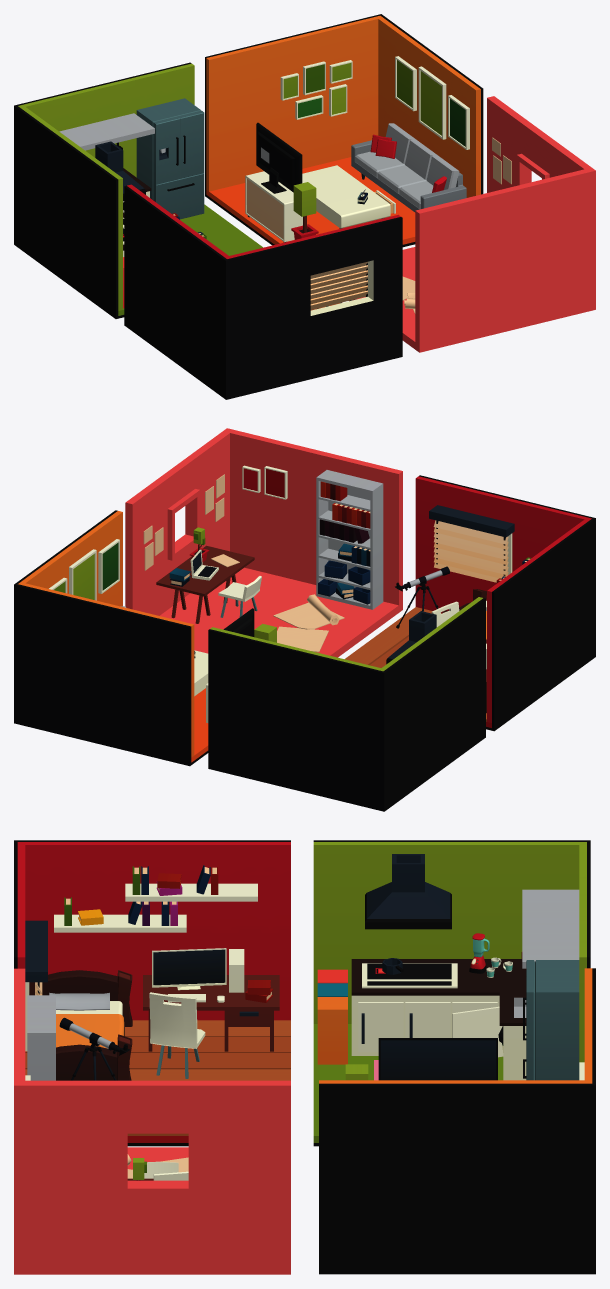
File: hause2.fbx
3 renders of one model, top to bottom at view 1: azimuth 30°, elevation 25°; view 2: azimuth 150°, elevation 25°; view 3: azimuth 270°, elevation 25°, orthographic. The views are drawn at different scales.
Parts seen in each view (by area): view 1: Walls2, Walls2_Colors_0_2, Walls, Walls_Colors_0_2, Fridge, Table_Body, Dresser, TV, Top_Shelf, Picture8, Frame_Back, Picture7 (+12 smaller); view 2: Walls_Colors_0_2, Walls2_Colors_0_2, Walls, Walls2, BookShelf, Top_Colors_0_3, Wood_Plank7, Top_Colors_0_2, Picture8, Paper8, Picture6, Paper7 (+7 smaller); view 3: Walls, Walls2_Colors_0_2, Walls2, Walls_Colors_0_2, Bed, Counter_Colors_0, Fridge, TV, Thing_above_the_stove_i_dont_really_know_wat_its_called_Colo, Top_Shelf, Computer, Wood_Plank4 (+18 smaller).
Boxes of the visible parts, left/top/right/bottom form: Walls2: left=124, top=184, right=402, bottom=399; Walls2_Colors_0_2: left=349, top=96, right=595, bottom=352; Walls: left=205, top=14, right=483, bottom=247; Walls_Colors_0_2: left=14, top=62, right=262, bottom=318; Fridge: left=136, top=98, right=204, bottom=219; Table_Body: left=302, top=165, right=390, bottom=228; Dresser: left=245, top=171, right=302, bottom=242; TV: left=256, top=122, right=302, bottom=193; Top_Shelf: left=59, top=113, right=154, bottom=150; Picture8: left=418, top=66, right=446, bottom=139; Frame_Back: left=351, top=140, right=466, bottom=208; Picture7: left=395, top=56, right=416, bottom=111; Walls_Colors_0_2: left=208, top=597, right=485, bottom=811; Walls2_Colors_0_2: left=125, top=428, right=402, bottom=657; Walls: left=14, top=510, right=208, bottom=766; Walls2: left=415, top=475, right=595, bottom=731; BookShelf: left=316, top=470, right=383, bottom=609; Top_Colors_0_3: left=156, top=545, right=254, bottom=596; Wood_Plank7: left=344, top=607, right=432, bottom=665; Top_Colors_0_2: left=429, top=505, right=514, bottom=537; Picture8: left=69, top=549, right=96, bottom=600; Paper8: left=277, top=626, right=328, bottom=652; Picture6: left=98, top=539, right=119, bottom=593; Paper7: left=273, top=602, right=344, bottom=629; Walls: left=319, top=968, right=595, bottom=1274; Walls2_Colors_0_2: left=14, top=968, right=290, bottom=1274; Walls2: left=14, top=840, right=290, bottom=1146; Walls_Colors_0_2: left=313, top=840, right=590, bottom=1146; Bed: left=29, top=970, right=132, bottom=1080; Counter_Colors_0: left=351, top=959, right=526, bottom=1080; Fridge: left=526, top=960, right=579, bottom=1080; TV: left=378, top=1038, right=497, bottom=1080; Thing_above_the_stove_i_dont_really_know_wat_its_called_Colo: left=365, top=854, right=451, bottom=929; Top_Shelf: left=522, top=889, right=579, bottom=968; Computer: left=152, top=948, right=226, bottom=990; Wood_Plank4: left=25, top=1053, right=290, bottom=1069.
Size of the model in its own units: 765 by 275 by 767.
2 materials, 1 textured.
